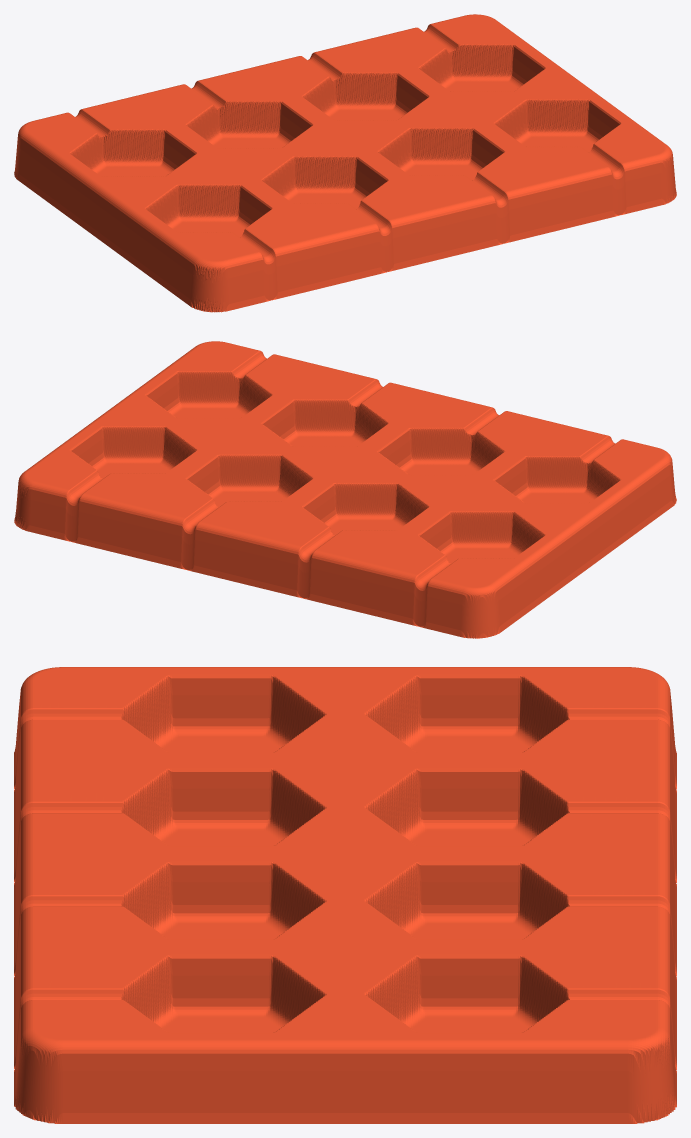
File: mold.glb
3 views of the same model, one above another, from view 1: azimuth 30°, elevation 25°; view 2: azimuth 150°, elevation 25°; view 3: azimuth 270°, elevation 25° (orthographic). The views are drawn at different scales.
Parts seen in each view (by area): view 1: geometry_0; view 2: geometry_0; view 3: geometry_0.
Part boxes in pixels (x1,y1,x2,y2): geometry_0: (14, 14, 676, 312); geometry_0: (14, 341, 676, 638); geometry_0: (14, 667, 676, 1123).
Bounding box in the file's own units: 0.1702 × 0.0155 × 0.1229.
